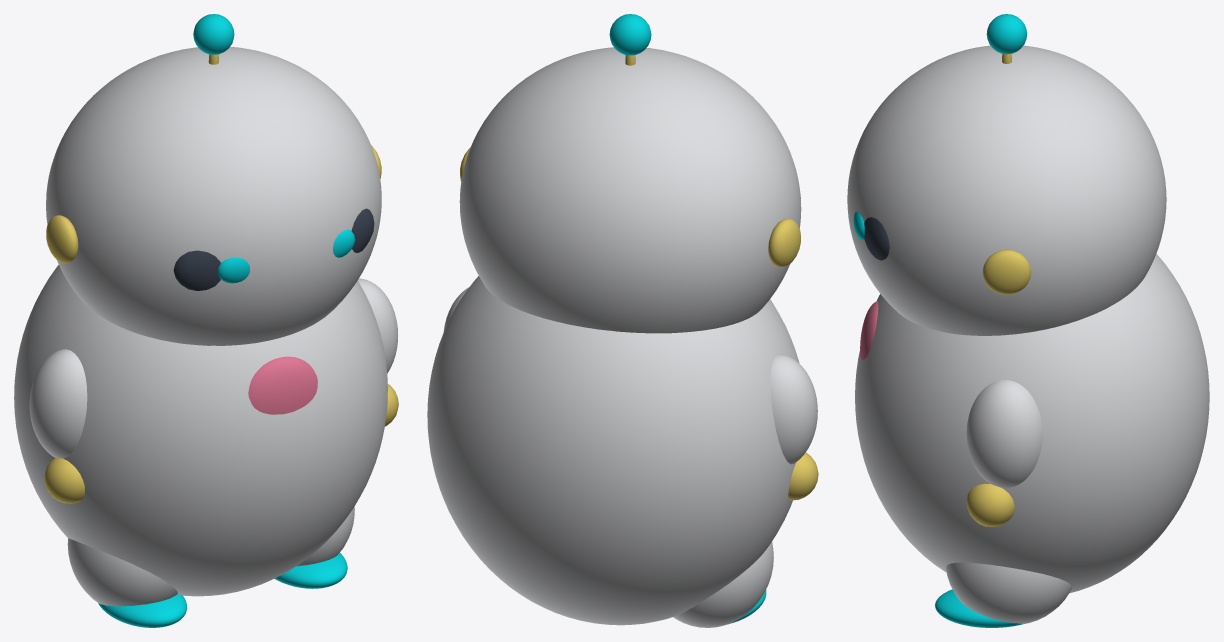
File: RobotExpressive.glb
3 views of the same model, side by side, from view 1: azimuth 30°, elevation 25°; view 2: azimuth 150°, elevation 25°; view 3: azimuth 270°, elevation 25° (orthographic). The views are drawn at different scales.
Parts seen in each view (by area): view 1: geometry_0; view 2: geometry_0; view 3: geometry_0.
Part boxes in pixels (x1,y1,x2,y2): geometry_0: [14, 14, 398, 627]; geometry_0: [427, 14, 818, 627]; geometry_0: [847, 14, 1209, 627].
Size of the model in its own units: 0.802 by 1.23 by 0.715.
